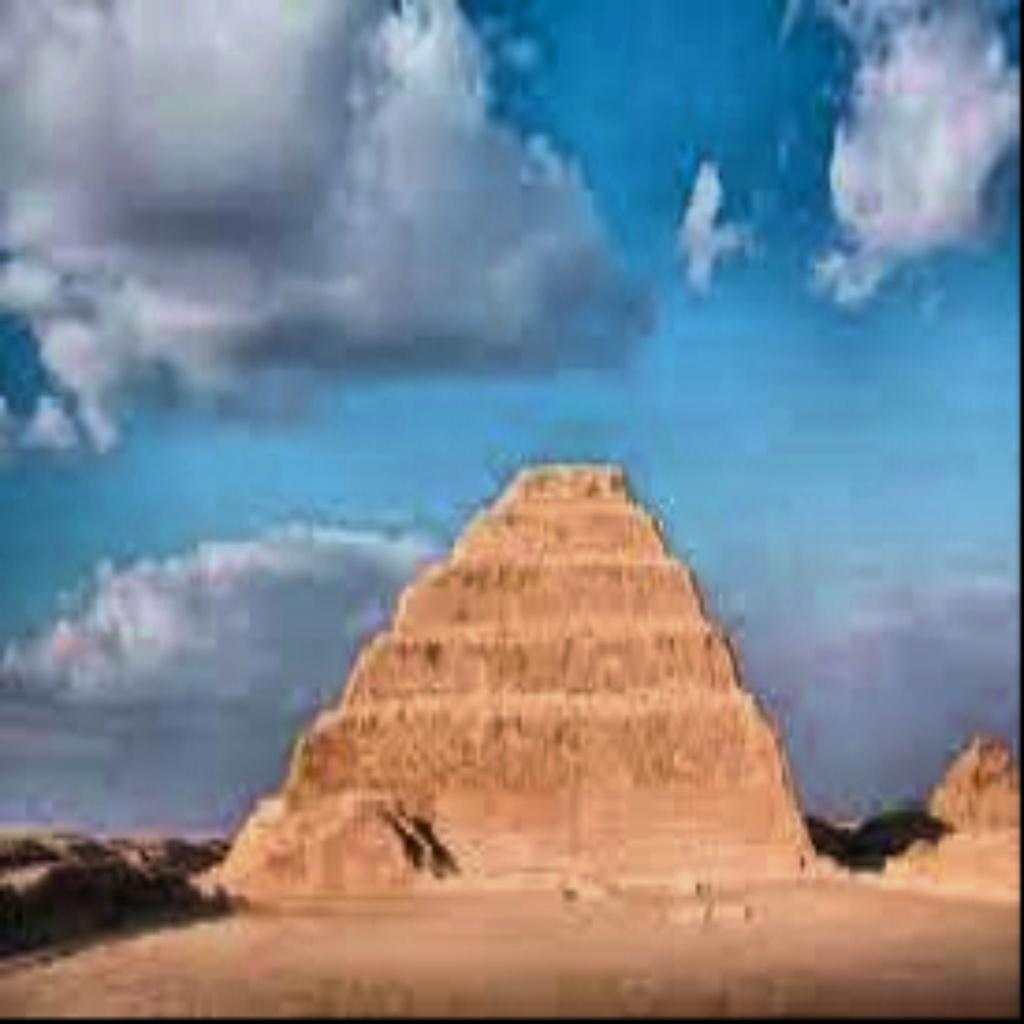Pyramid of Djoser: (208, 448, 838, 906)
